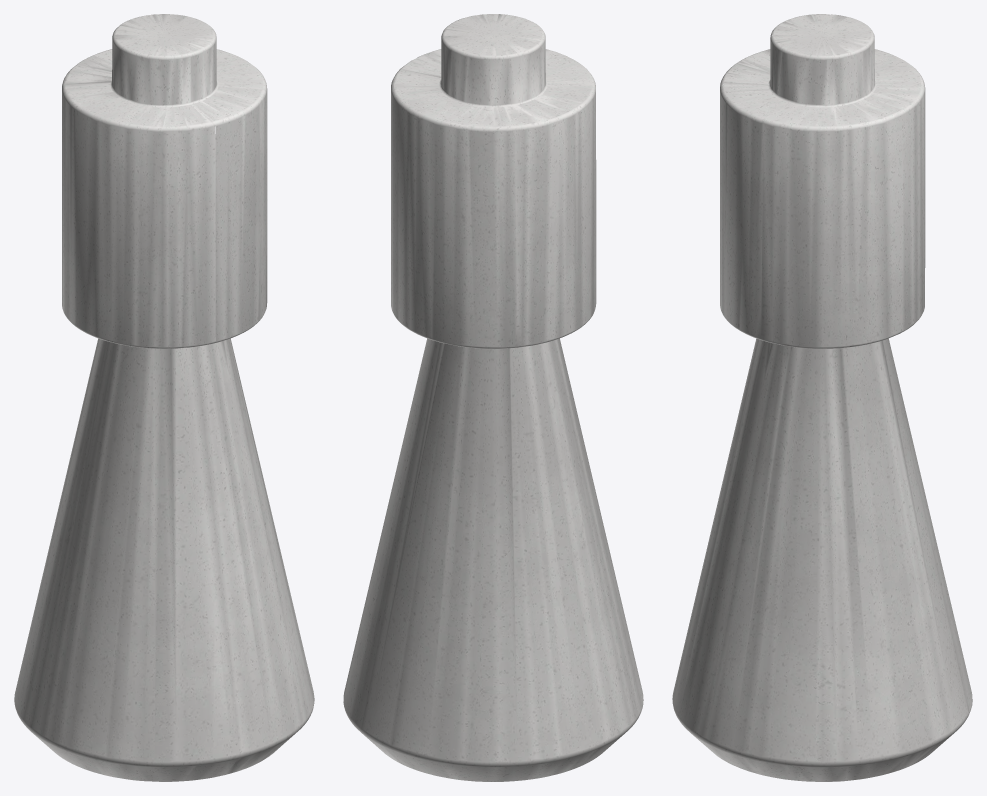
File: king-white.glb
3 views of the same model, side by side, from view 1: azimuth 30°, elevation 25°; view 2: azimuth 150°, elevation 25°; view 3: azimuth 270°, elevation 25° (orthographic).
Visible parts, largest first — view 1: 04_kral_bila; view 2: 04_kral_bila; view 3: 04_kral_bila.
Boxes of the visible parts, x1,y1,x2,y2 form: 04_kral_bila: (14, 14, 314, 781); 04_kral_bila: (343, 14, 643, 781); 04_kral_bila: (672, 14, 972, 781).
Size of the model in its own units: 0.6171 by 1.58 by 0.6169.
Materials: 1 (1 with a texture image).
